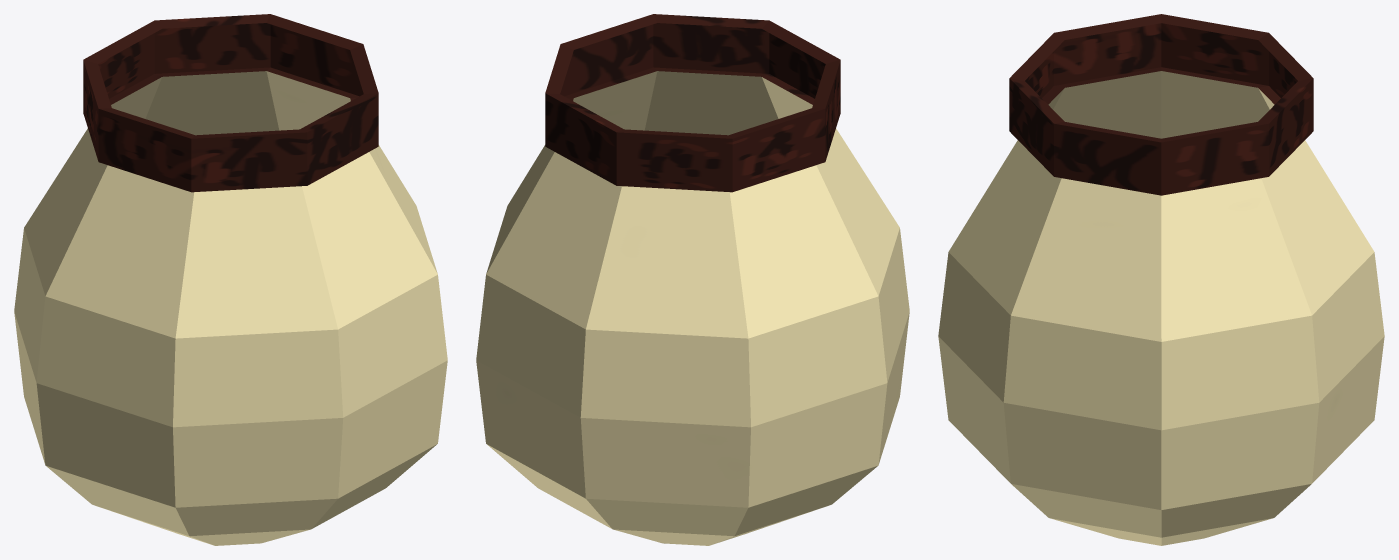
The model's file is LAMP.fbx.
3 views of the same model, side by side, from view 1: azimuth 30°, elevation 25°; view 2: azimuth 150°, elevation 25°; view 3: azimuth 270°, elevation 25° (orthographic).
Visible parts, largest first — view 1: Cylinder; view 2: Cylinder; view 3: Cylinder.
Boxes of the visible parts, x1=… form: Cylinder: x1=14, y1=14, x2=447, y2=545; Cylinder: x1=476, y1=14, x2=909, y2=545; Cylinder: x1=938, y1=14, x2=1384, y2=545.
Size of the model in its own units: 30.02 by 32.82 by 30.02.
Materials: 1 (1 with a texture image).
